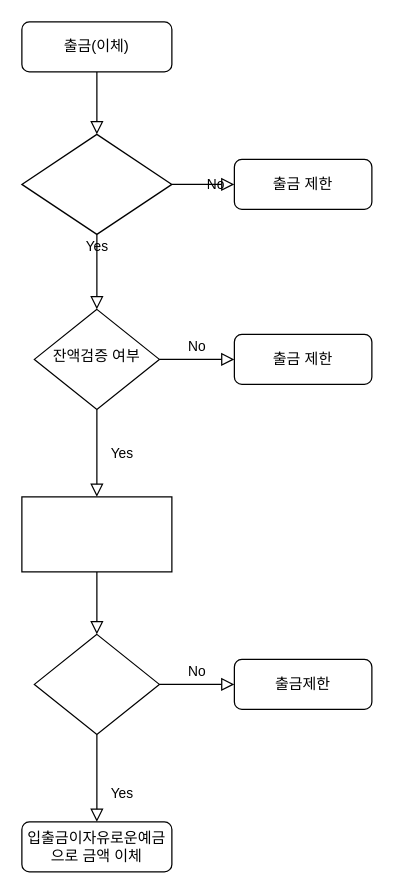
The diagram is 394 pixels wide and 894 high, and some of its shapes have lost their labels. The box of each missing label's shape, as (x1, y1, x2, y2) in pixels:
비밀번호 검증 여부: (33, 633, 159, 734)
질권, 압류 등 출금제한 사고신고 등록 여부: (21, 133, 172, 234)
출금금액조립: (21, 496, 172, 572)
